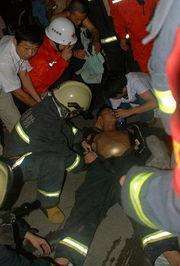Fall-Detected: (67, 94, 167, 266)
